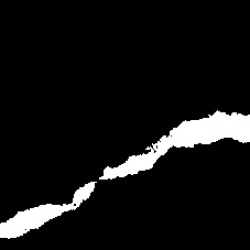crack: (2, 108, 249, 240)
